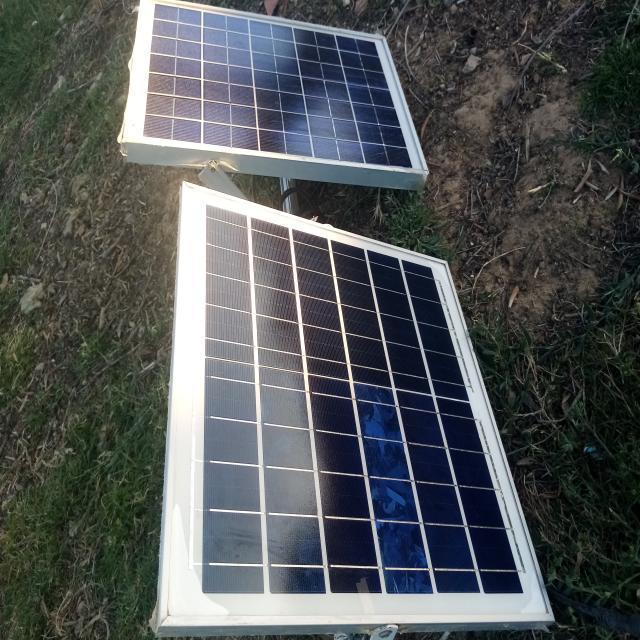no faulty: (162, 185, 551, 619), (126, 6, 429, 168)
